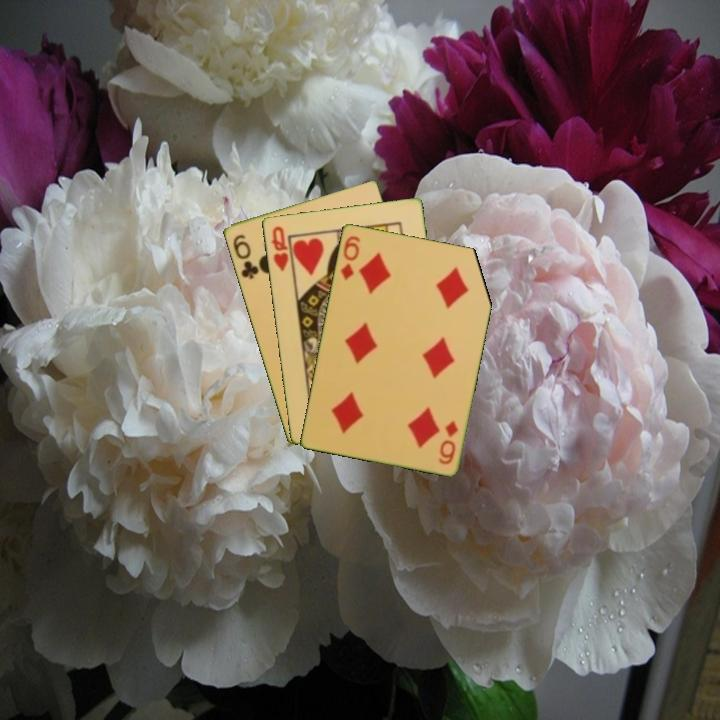6c: (229, 231, 261, 282)
6d: (435, 417, 461, 467), (337, 232, 362, 283)
Qh: (268, 222, 291, 274)
